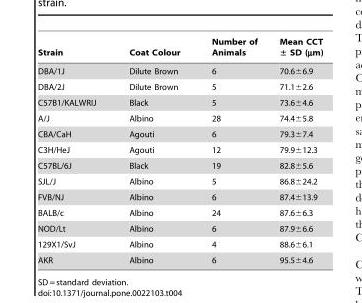table: (37, 37, 322, 264)
table column: (111, 37, 195, 264), (37, 37, 111, 264), (195, 37, 267, 264), (267, 37, 322, 264)
table column header: (37, 37, 322, 61)
table row: (37, 37, 322, 61), (37, 61, 322, 78), (37, 78, 322, 94), (37, 94, 322, 110), (37, 125, 322, 141), (37, 141, 322, 157), (37, 157, 322, 173), (37, 188, 322, 204), (37, 204, 322, 220), (37, 220, 322, 236), (37, 110, 322, 125), (37, 173, 322, 188), (37, 236, 322, 251), (37, 251, 322, 264)
